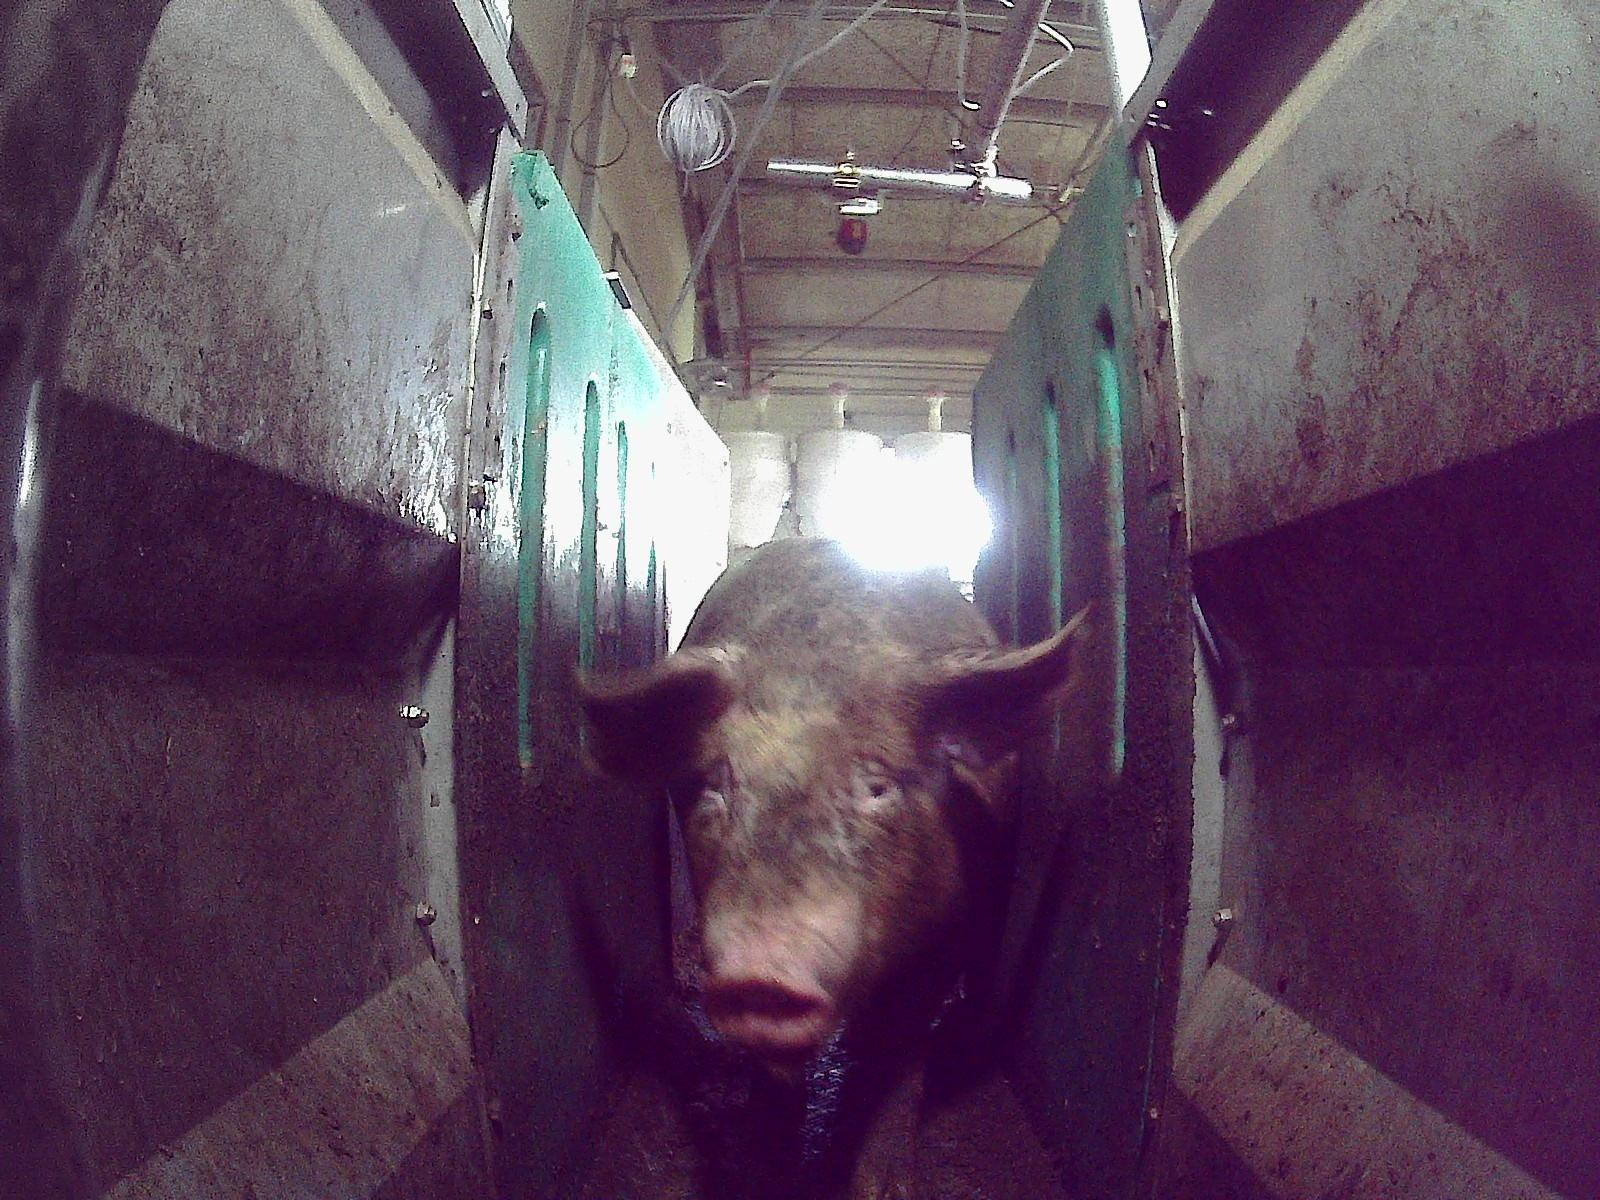Face: (669, 676, 970, 1066)
